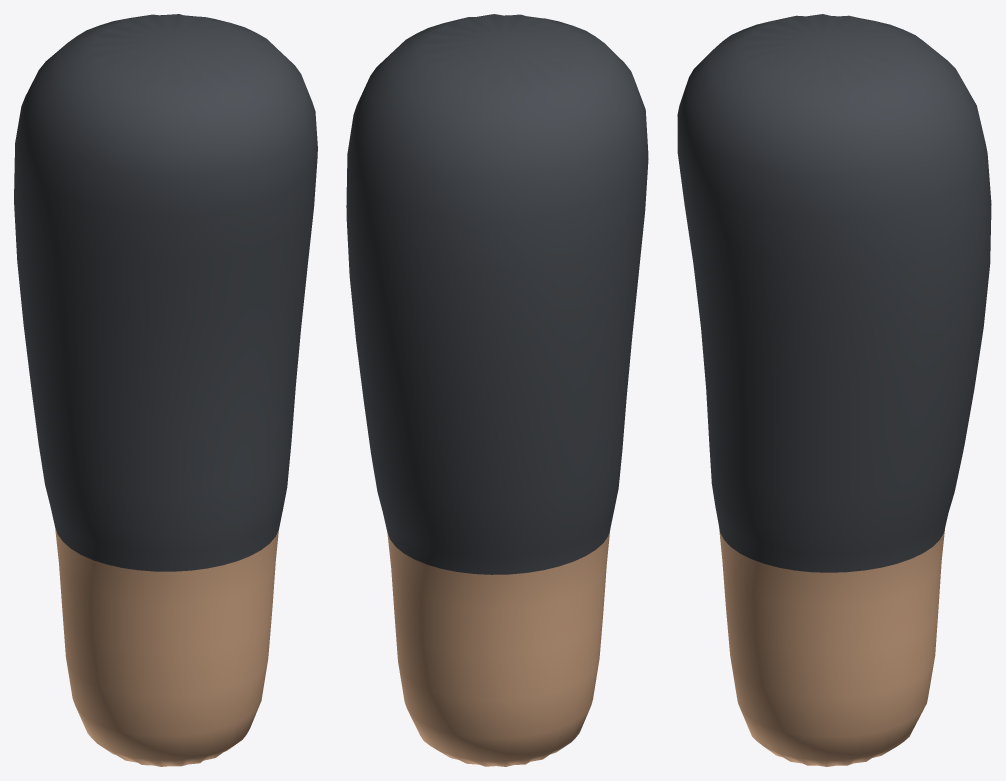
Rendered from rider_thigh.glb.
3 renders of one model, left to right at view 1: azimuth 30°, elevation 25°; view 2: azimuth 150°, elevation 25°; view 3: azimuth 270°, elevation 25°, orthographic.
Visible parts, largest first — view 1: rider_thigh; view 2: rider_thigh; view 3: rider_thigh.
Boxes of the visible parts, box(x1,y1,x2,y2) form: rider_thigh: box(14, 14, 317, 766); rider_thigh: box(346, 14, 648, 766); rider_thigh: box(677, 14, 991, 766).
Size of the model in its own units: 0.1807 by 0.4713 by 0.1889.
